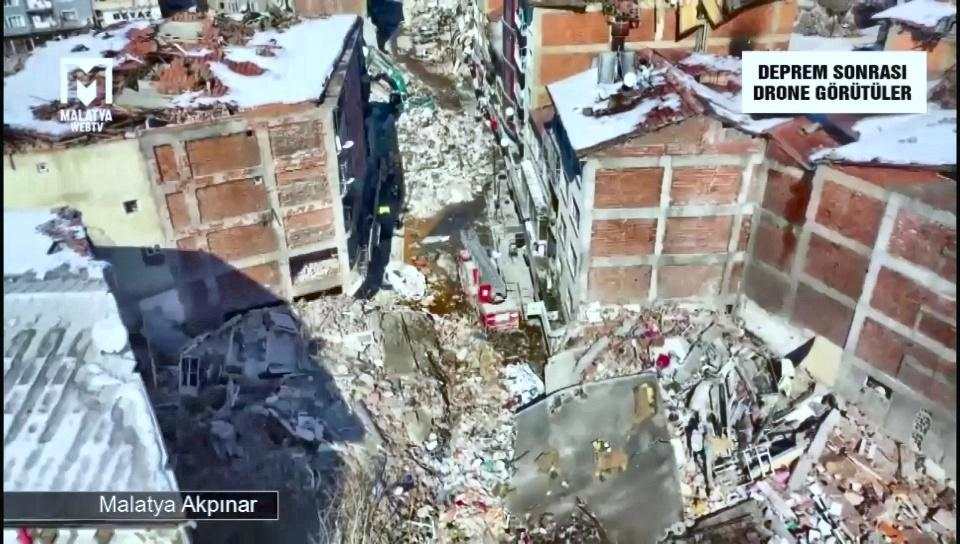kapali: (348, 251, 551, 543), (375, 88, 494, 245), (379, 0, 458, 78)
